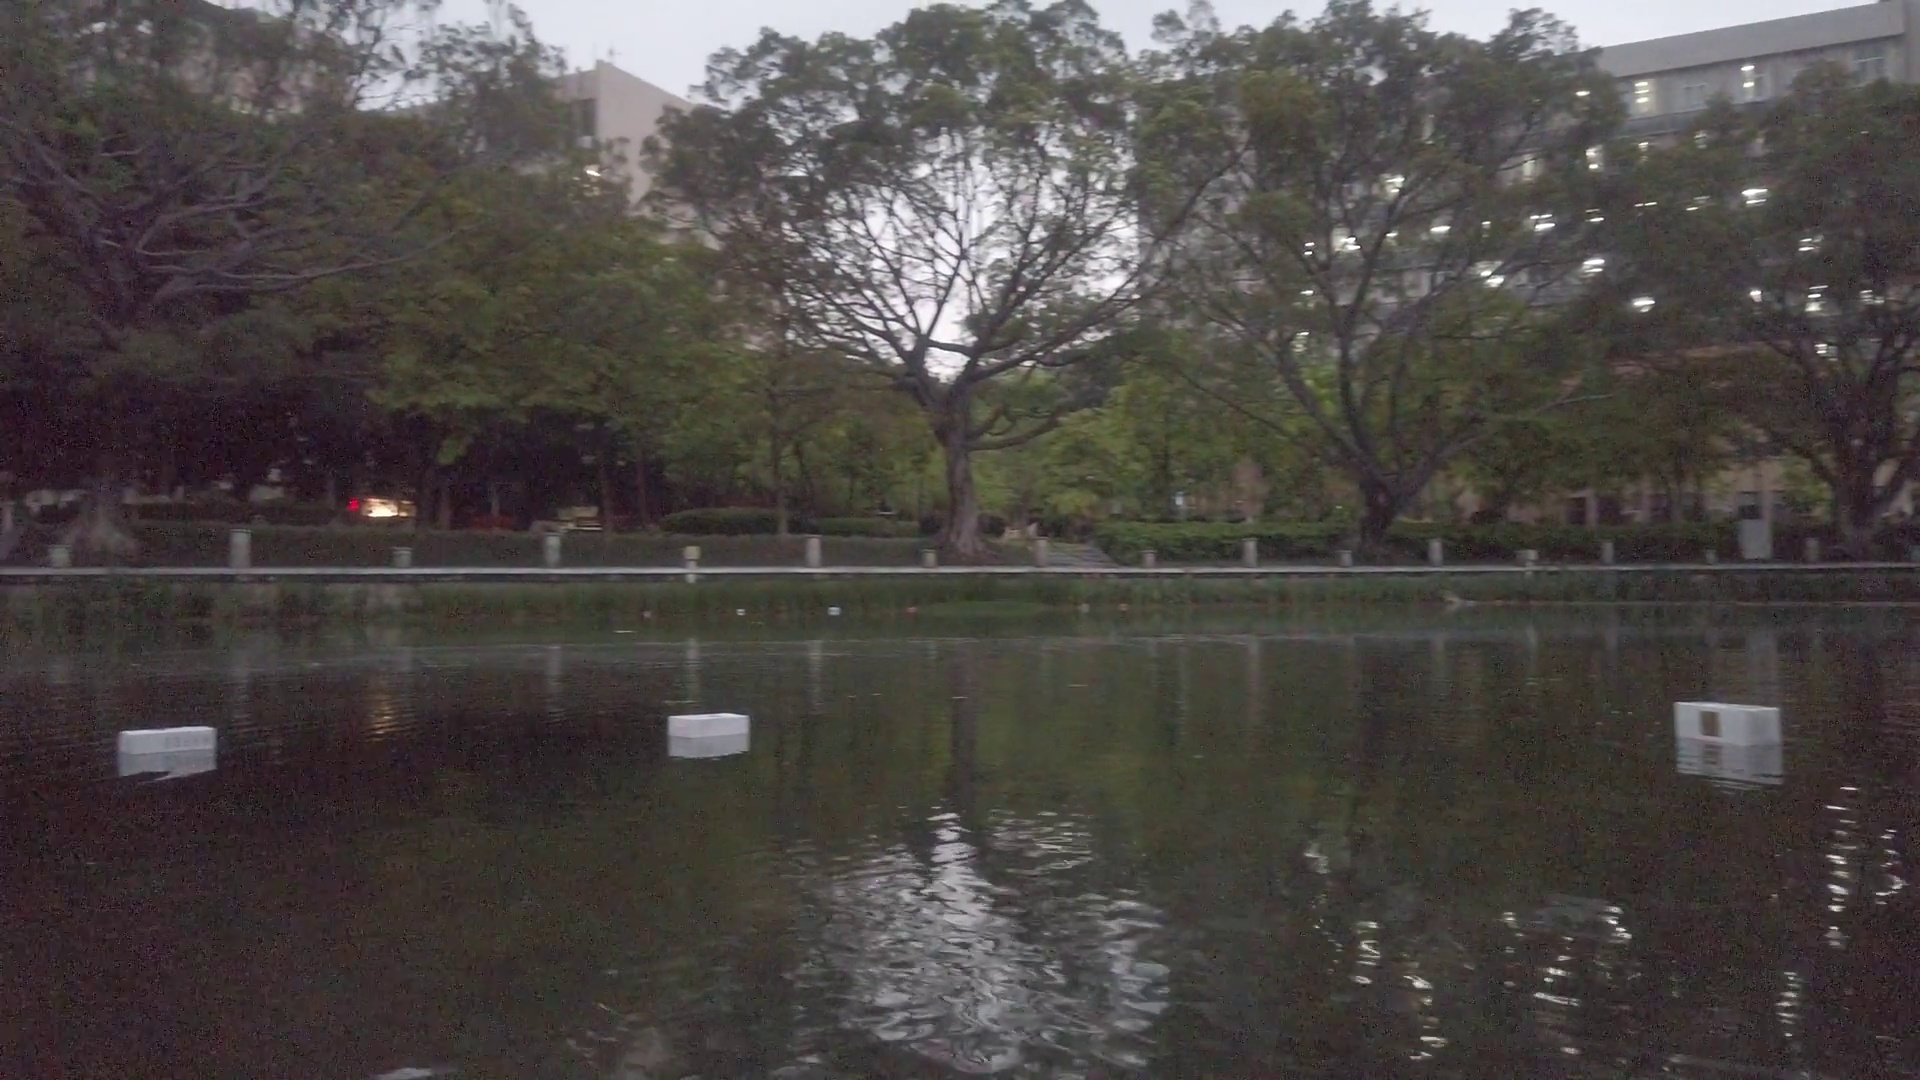carton: (1673, 699, 1782, 744), (123, 728, 222, 756), (669, 711, 746, 744), (820, 604, 851, 618)
